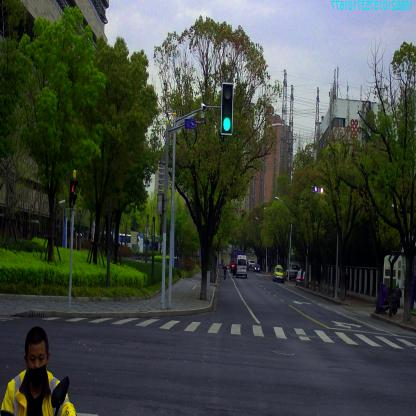traffic-light: (221, 83, 233, 134)
